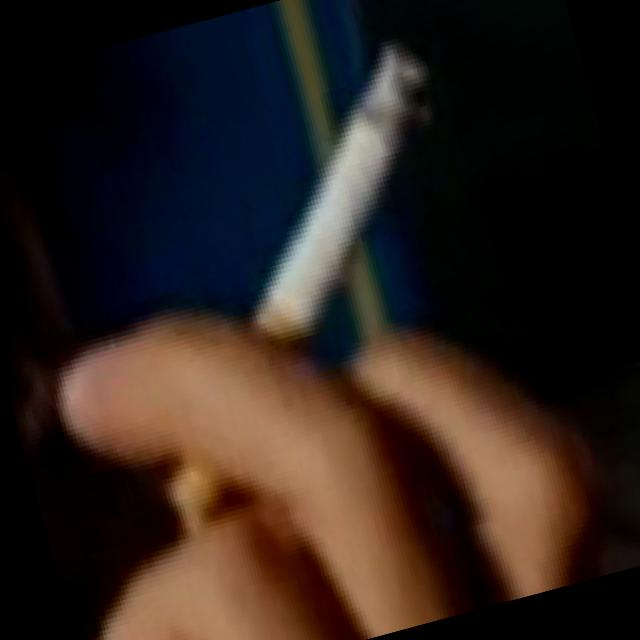cigarette: (42, 11, 542, 559)
